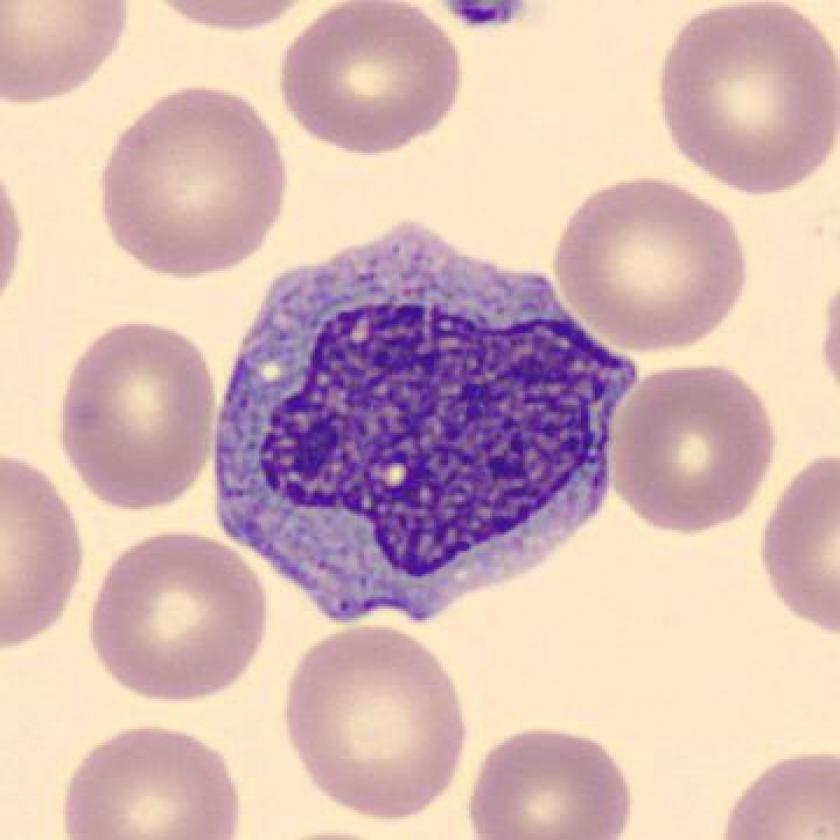monocyte: (195, 207, 650, 644)
